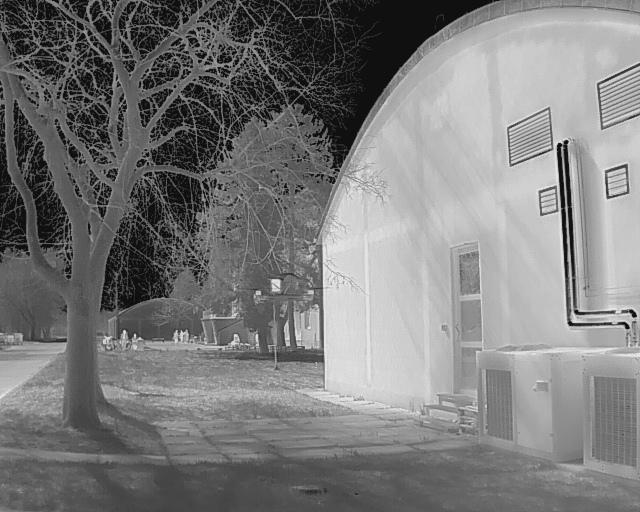drone: (228, 260, 328, 330)
